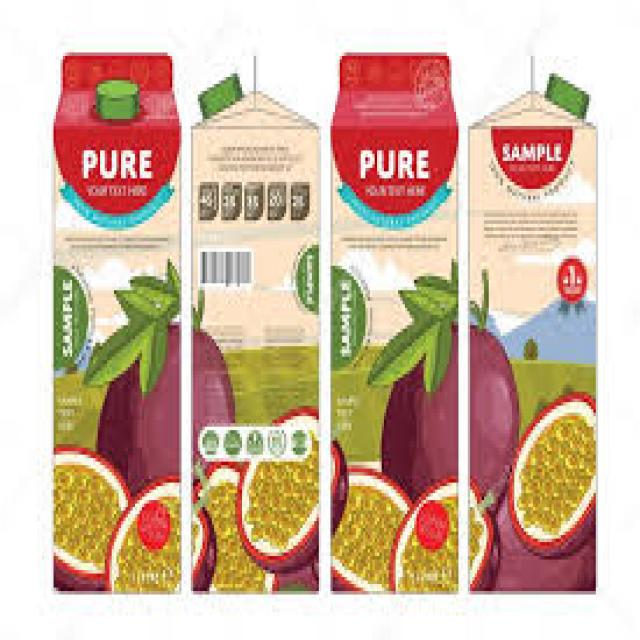non_white_jug: (320, 42, 460, 615), (44, 49, 186, 612), (466, 51, 608, 614), (185, 47, 320, 621)
